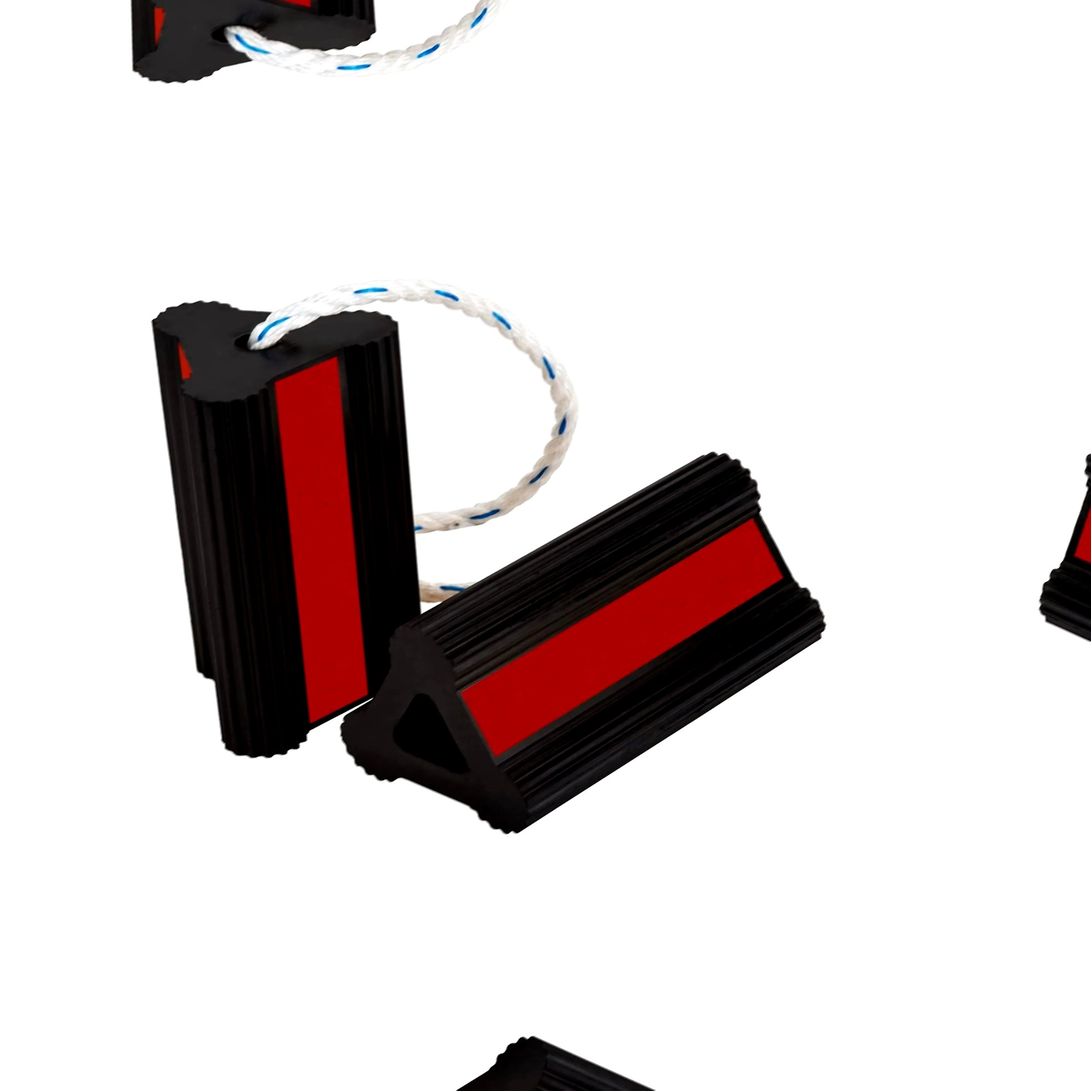chock: (323, 437, 842, 850), (138, 279, 434, 766)
